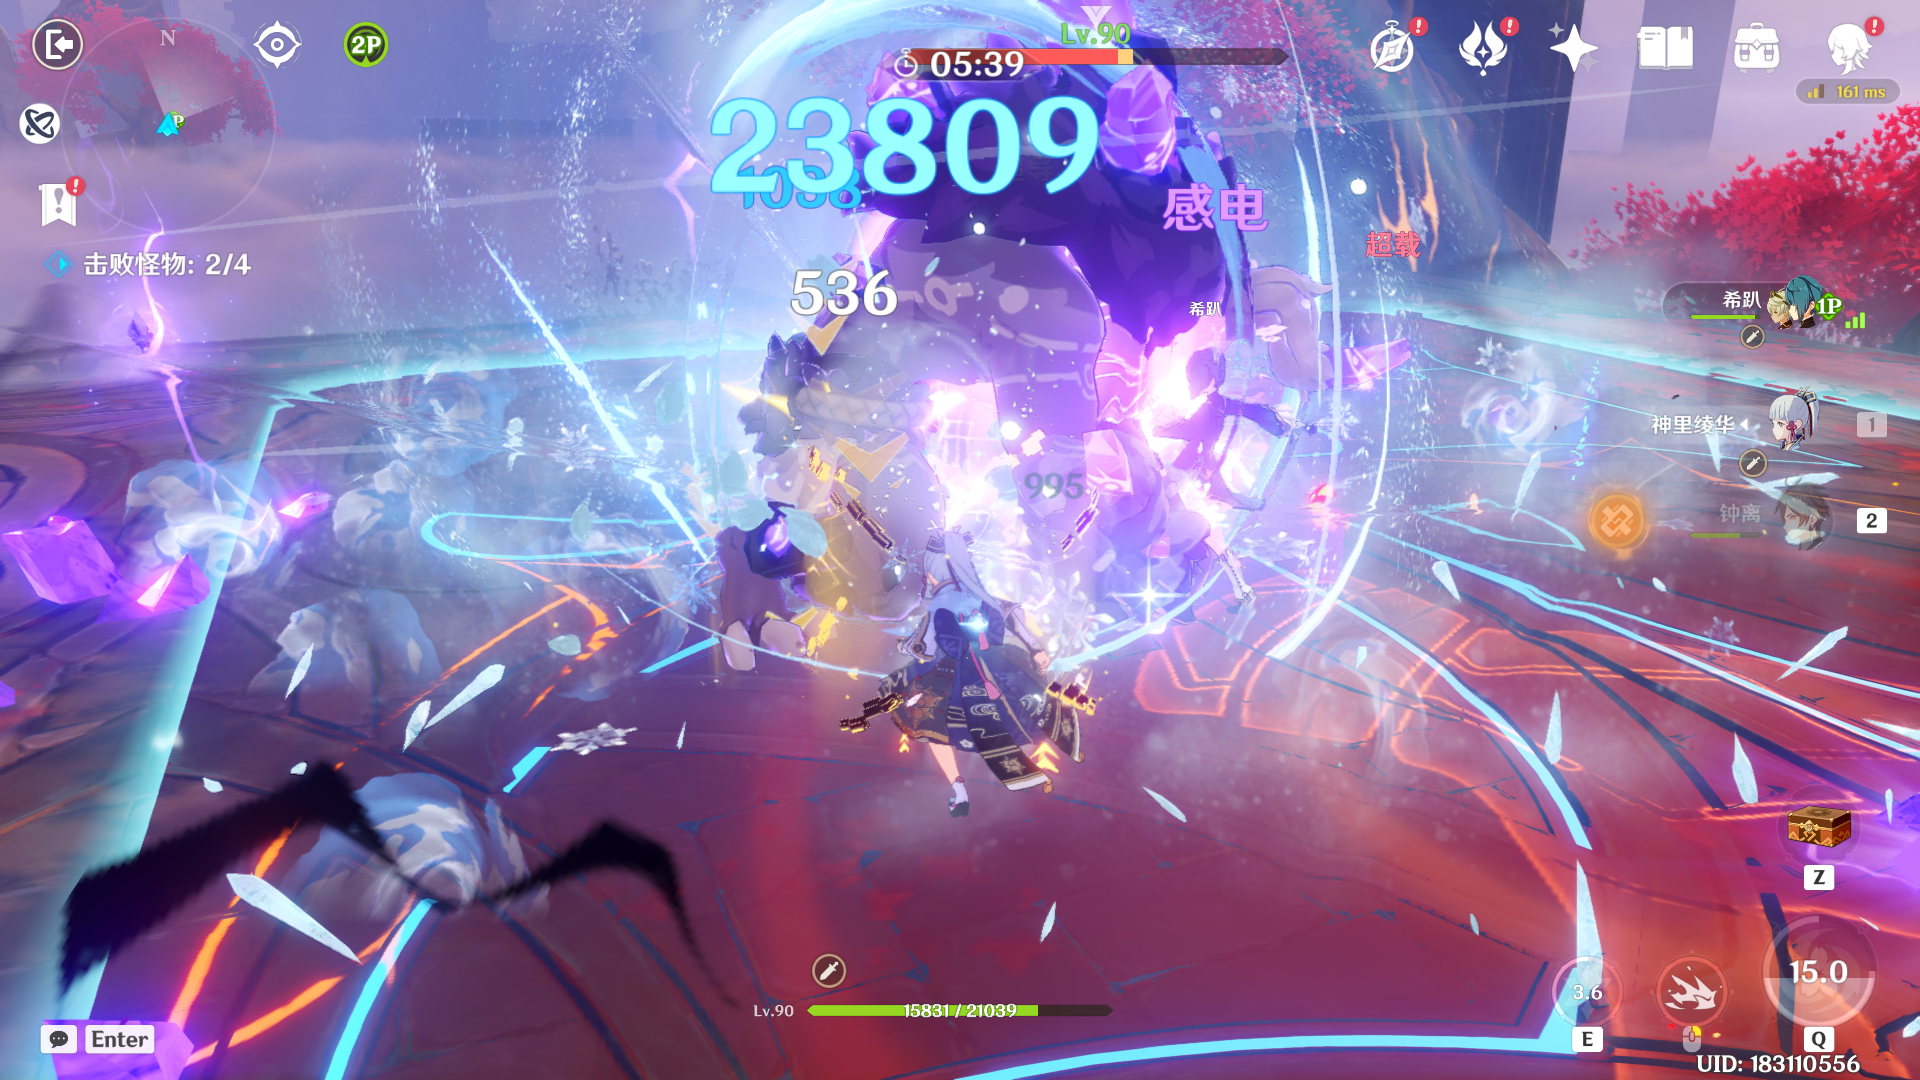bosshili: (673, 3, 1350, 698)
character: (825, 502, 1143, 862)
